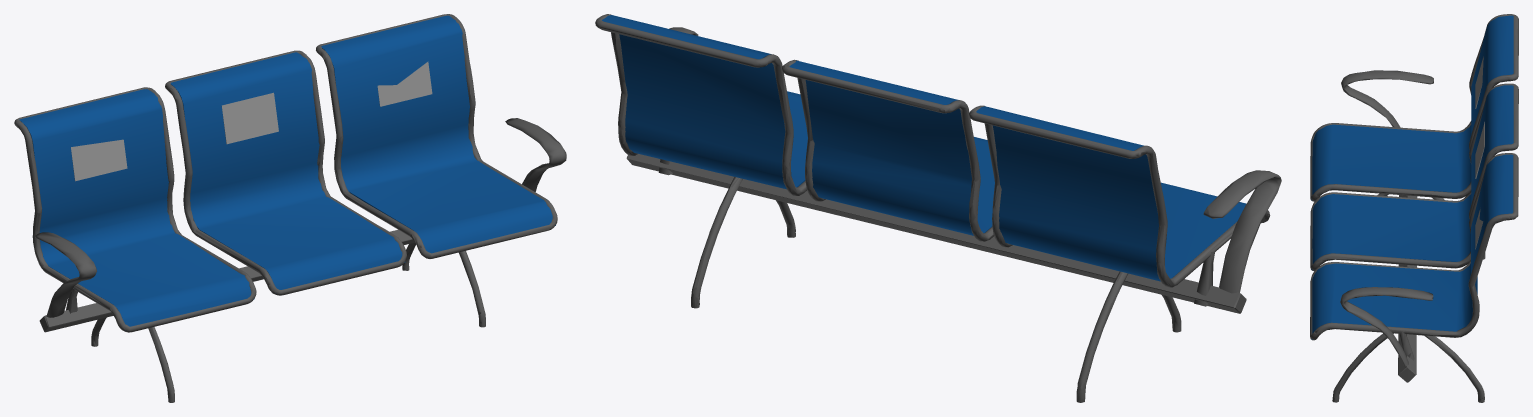
3 views of the same model, side by side, from view 1: azimuth 30°, elevation 25°; view 2: azimuth 150°, elevation 25°; view 3: azimuth 270°, elevation 25° (orthographic). The views are drawn at different scales.
Visible parts, largest first — view 1: 10 - Default, buxiugang, Rectangle002, Rectangle003, Rectangle001; view 2: 10 - Default, buxiugang; view 3: 10 - Default, buxiugang, Rectangle002, Rectangle003.
Boxes of the visible parts, left/top/right/bottom form: 10 - Default: left=19, top=15, right=555, bottom=326; buxiugang: left=14, top=14, right=566, bottom=402; Rectangle002: left=221, top=92, right=278, bottom=144; Rectangle003: left=71, top=139, right=127, bottom=181; Rectangle001: left=377, top=61, right=432, bottom=106; 10 - Default: left=602, top=15, right=1246, bottom=281; buxiugang: left=595, top=14, right=1281, bottom=402; 10 - Default: left=1311, top=15, right=1513, bottom=339; buxiugang: left=1310, top=14, right=1518, bottom=402; Rectangle002: left=1475, top=122, right=1484, bottom=178; Rectangle003: left=1475, top=56, right=1483, bottom=108.
Size of the model in its own units: 205 by 91.05 by 79.86.
